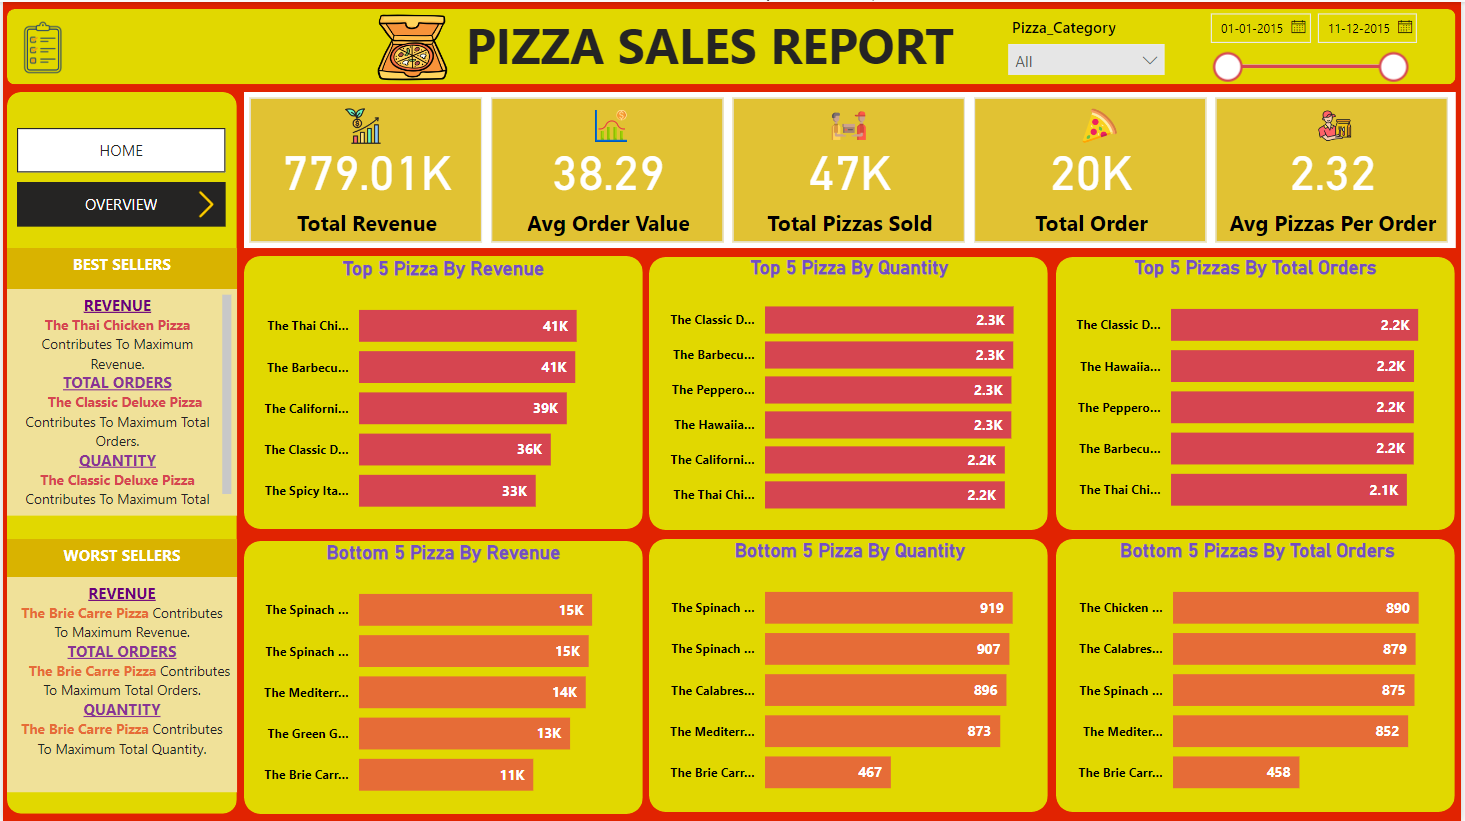

This screenshot's page, from the dashboard's own definition file:
{"tool":"powerbi","page":{"name":"OVERVIEW","canvas":[1280,720],"ordinal":1},"visuals":[{"type":"shape","box":[3.6,6.4,1271.8,66.4],"z":0},{"type":"shape","box":[3.6,79.1,201.8,633.6],"z":1000},{"type":"shape","box":[211.8,79.1,1063.6,137.3],"z":2000},{"type":"shape","box":[211.6,473.3,350.3,239.7],"z":5000},{"type":"textbox","box":[400.9,3.6,515.5,72.7],"z":8000},{"type":"image","box":[323.6,4.5,70.9,70.9],"z":9000},{"type":"cardVisual","fields":{"Data":["pizza_sales.Total Revenue","pizza_sales.Avg Order Value","pizza_sales.Total Pizzas Sold","pizza_sales.Total Order","pizza_sales.Avg Pizzas Per Order"]},"box":[211.8,79.1,1063.6,137.3],"z":10000},{"type":"image","box":[295.5,87.3,41.8,43.6],"z":11000},{"type":"image","box":[513.6,89.1,40.9,40],"z":12000},{"type":"image","box":[722.7,89.1,40.9,40],"z":13000},{"type":"image","box":[942.7,89.1,40.9,40],"z":14000},{"type":"image","box":[1149.1,89.1,40.9,40],"z":15000},{"type":"slicer","fields":{"Values":["pizza_sales.pizza_category"]},"box":[872.8,7.9,157.2,65],"z":21000},{"type":"slicer","fields":{"Values":["pizza_sales.order_date"]},"box":[1047.5,0,203.7,72.9],"z":22000},{"type":"textbox","box":[3.5,216,202,36],"z":23000},{"type":"textbox","box":[3.5,252,202,199.3],"z":24000},{"type":"textbox","box":[3.5,471.5,202,36],"z":25000},{"type":"textbox","box":[3.5,504.9,202,188.8],"z":26000},{"type":"shape","box":[211.6,223,350.3,239.7],"z":26003},{"type":"shape","box":[567.6,471.5,350.3,239.7],"z":26004},{"type":"shape","box":[567.6,224.2,350.3,239.7],"z":26005},{"type":"shape","box":[924.6,223.9,350.3,239.7],"z":26006},{"type":"shape","box":[924.6,471.5,350.3,239.7],"z":26007},{"type":"barChart","title":"Top 5 Pizza By Revenue","fields":{"Y":["pizza_sales.Total Revenue"],"Category":["pizza_sales.pizza_name"]},"box":[211.6,223.9,350.3,239.7],"z":26008},{"type":"barChart","title":"Bottom 5 Pizza By Revenue","fields":{"Y":["pizza_sales.Total Revenue"],"Category":["pizza_sales.pizza_name"]},"box":[211.6,473.3,350.3,239.7],"z":26009},{"type":"barChart","title":"Top 5 Pizza By Quantity","fields":{"Category":["pizza_sales.pizza_name"],"Y":["Sum(pizza_sales.quantity)"]},"box":[568.1,223,350.3,239.7],"z":26010},{"type":"barChart","title":"Bottom 5 Pizza By Quantity","fields":{"Category":["pizza_sales.pizza_name"],"Y":["Sum(pizza_sales.quantity)"]},"box":[568,471.7,351.1,239.3],"z":26011},{"type":"barChart","title":"Top 5 Pizzas By Total Orders","fields":{"Category":["pizza_sales.pizza_name"],"Y":["pizza_sales.Total Order"]},"box":[924.6,223,350.3,239.7],"z":26012},{"type":"barChart","title":"Bottom 5 Pizzas By Total Orders","fields":{"Category":["pizza_sales.pizza_name"],"Y":["pizza_sales.Total Order"]},"box":[926,471.7,350.2,239.3],"z":26013},{"type":"pageNavigator","box":[12.3,158,183.5,39.5],"z":26014},{"type":"pageNavigator","box":[12.3,110.6,183.5,39.5],"z":26015},{"type":"image","box":[161.6,160.7,34.2,34.2],"z":26016},{"type":"image","box":[3.5,11.4,63.2,57.1],"z":26017}]}

Visuals, with their boxes in screenshot pixels (x1, y1, x2, y2), scaled from the page's 1280x720 canvas onto the 1465x821 screenshot:
shape: 4:7:1460:83
shape: 4:90:235:813
shape: 242:90:1460:247
shape: 242:540:643:813
textbox: 459:4:1049:87
image: 370:5:452:86
cardVisual - pizza_sales.Total Revenue x pizza_sales.Avg Order Value: 242:90:1460:247
image: 338:100:386:149
image: 588:102:635:147
image: 827:102:874:147
image: 1079:102:1126:147
image: 1315:102:1362:147
slicer - pizza_sales.pizza_category: 999:9:1179:83
slicer - pizza_sales.order_date: 1199:0:1432:83
textbox: 4:246:235:287
textbox: 4:287:235:515
textbox: 4:538:235:579
textbox: 4:576:235:791
shape: 242:254:643:528
shape: 650:538:1051:811
shape: 650:256:1051:529
shape: 1058:255:1459:529
shape: 1058:538:1459:811
"Top 5 Pizza By Revenue" barChart: 242:255:643:529
"Bottom 5 Pizza By Revenue" barChart: 242:540:643:813
"Top 5 Pizza By Quantity" barChart: 650:254:1051:528
"Bottom 5 Pizza By Quantity" barChart: 650:538:1052:811
"Top 5 Pizzas By Total Orders" barChart: 1058:254:1459:528
"Bottom 5 Pizzas By Total Orders" barChart: 1060:538:1461:811
pageNavigator: 14:180:224:225
pageNavigator: 14:126:224:171
image: 185:183:224:222
image: 4:13:76:78
